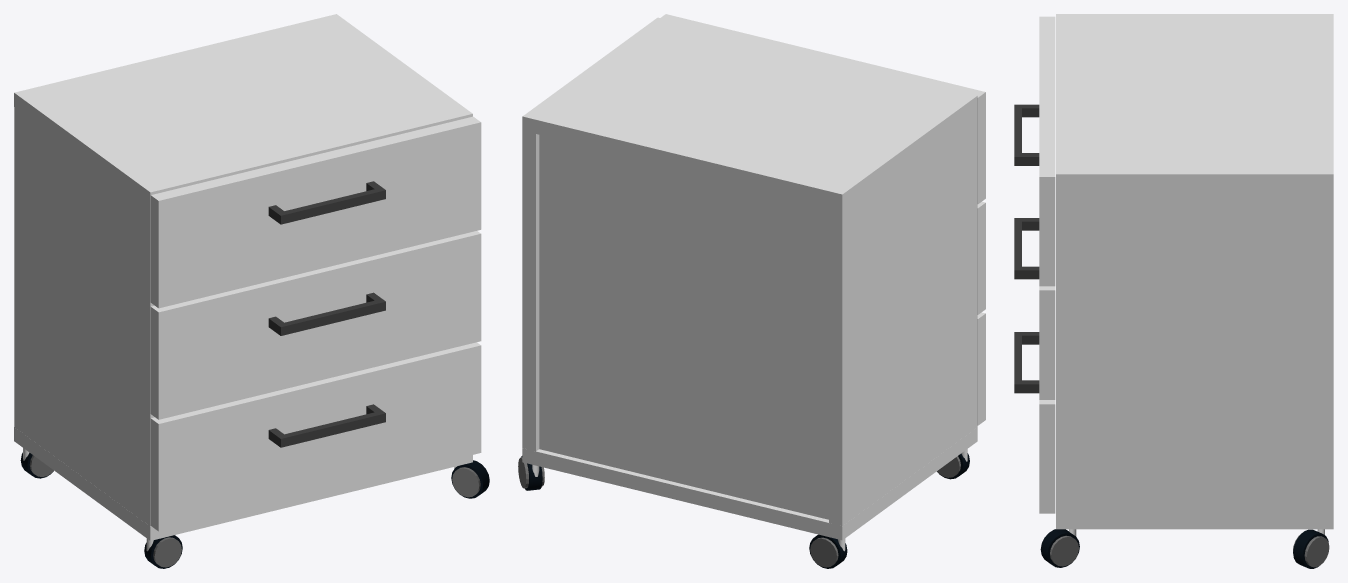
File: Hospital furniture 1.FBX
3 renders of one model, left to right at view 1: azimuth 30°, elevation 25°; view 2: azimuth 150°, elevation 25°; view 3: azimuth 270°, elevation 25°, orthographic. The views are drawn at different scales.
Visible parts, largest first — view 1: hospital furniture 1; view 2: hospital furniture 1; view 3: hospital furniture 1.
Part boxes in pixels (x1=…): hospital furniture 1: x1=14, y1=14, x2=489, y2=568; hospital furniture 1: x1=518, y1=14, x2=985, y2=568; hospital furniture 1: x1=1014, y1=14, x2=1333, y2=568.
Bounding box in the file's own units: 48.34 × 52.08 × 38.6.
2 materials, 1 textured.
